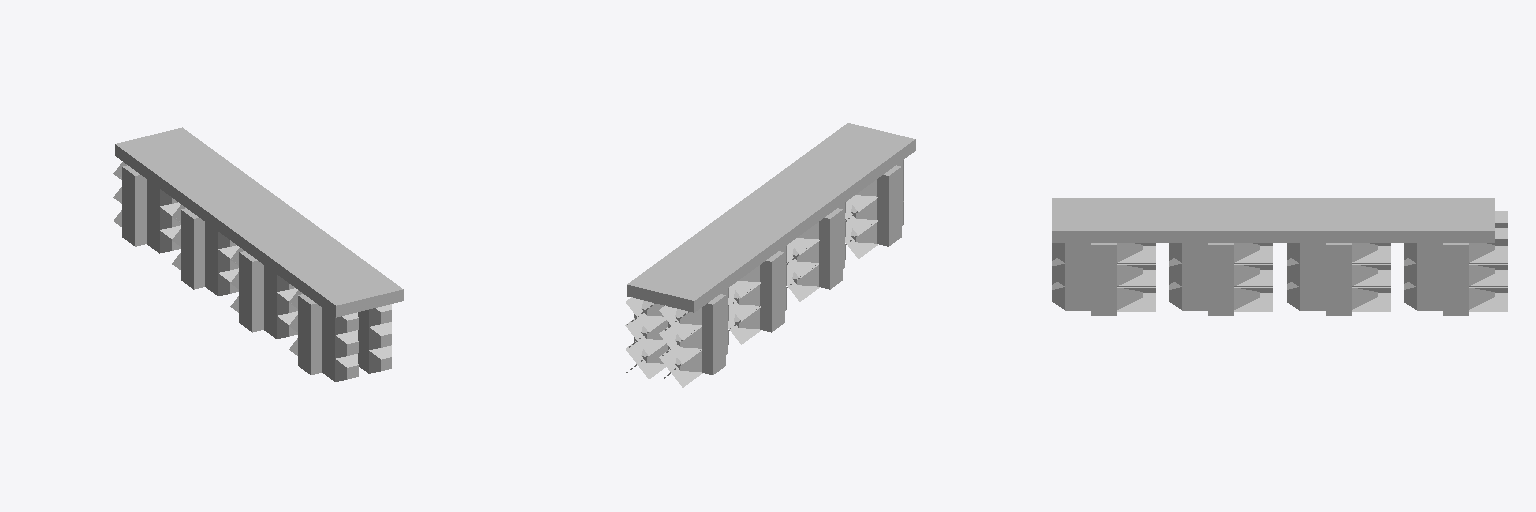
The model's file is bomblet_bombrack.obj.
3 views of the same model, side by side, from view 1: azimuth 30°, elevation 25°; view 2: azimuth 150°, elevation 25°; view 3: azimuth 270°, elevation 25° (orthographic).
Visible parts, largest first — view 1: bombletrack, bomblet21, bomblet23, bomblet9, bomblet11, bomblet5, bomblet15, bomblet17, bomblet24, bomblet3, bomblet22, bomblet19 (+1 smaller); view 2: bombletrack, bomblet5, bomblet3, bomblet1, bomblet17, bomblet15, bomblet4, bomblet6, bomblet11, bomblet23, bomblet9, bomblet21 (+2 smaller); view 3: bombletrack, bomblet12, bomblet6, bomblet24, bomblet18, bomblet10, bomblet4, bomblet22, bomblet16, bomble2, bomblet8, bomblet20 (+1 smaller).
Part boxes in pixels (left/top/right/bottom): bombletrack: left=115, top=127, right=403, bottom=374; bomblet21: left=289, top=303, right=358, bottom=358; bomblet23: left=289, top=338, right=358, bottom=381; bomblet9: left=172, top=218, right=239, bottom=272; bomblet11: left=172, top=253, right=238, bottom=295; bomblet5: left=114, top=197, right=180, bottom=253; bomblet15: left=231, top=259, right=297, bottom=315; bomblet17: left=230, top=296, right=297, bottom=338; bomblet24: left=358, top=343, right=391, bottom=373; bomblet3: left=113, top=177, right=180, bottom=229; bomblet22: left=358, top=320, right=391, bottom=349; bomblet19: left=289, top=290, right=358, bottom=334; bombletrack: left=627, top=123, right=915, bottom=374; bomblet5: left=659, top=330, right=728, bottom=387; bomblet3: left=659, top=306, right=728, bottom=363; bomblet1: left=659, top=288, right=728, bottom=339; bomblet17: left=787, top=244, right=845, bottom=301; bomblet15: left=787, top=220, right=845, bottom=277; bomblet4: left=625, top=318, right=667, bottom=355; bomblet6: left=626, top=341, right=667, bottom=378; bomblet11: left=728, top=287, right=786, bottom=344; bomblet23: left=845, top=201, right=903, bottom=258; bomblet9: left=728, top=263, right=786, bottom=321; bomblet21: left=845, top=178, right=903, bottom=235; bombletrack: left=1052, top=198, right=1494, bottom=315; bomblet12: left=1287, top=282, right=1390, bottom=311; bomblet6: left=1404, top=282, right=1507, bottom=311; bomblet24: left=1052, top=282, right=1155, bottom=311; bomblet18: left=1169, top=282, right=1272, bottom=311; bomblet10: left=1287, top=258, right=1390, bottom=287; bomblet4: left=1404, top=258, right=1507, bottom=287; bomblet22: left=1052, top=258, right=1155, bottom=287; bomblet16: left=1169, top=258, right=1272, bottom=287; bomble2: left=1404, top=228, right=1507, bottom=264; bomblet8: left=1287, top=243, right=1390, bottom=264; bomblet20: left=1052, top=243, right=1155, bottom=264.
Size of the model in its own units: 0.4375 by 0.4424 by 2.19.